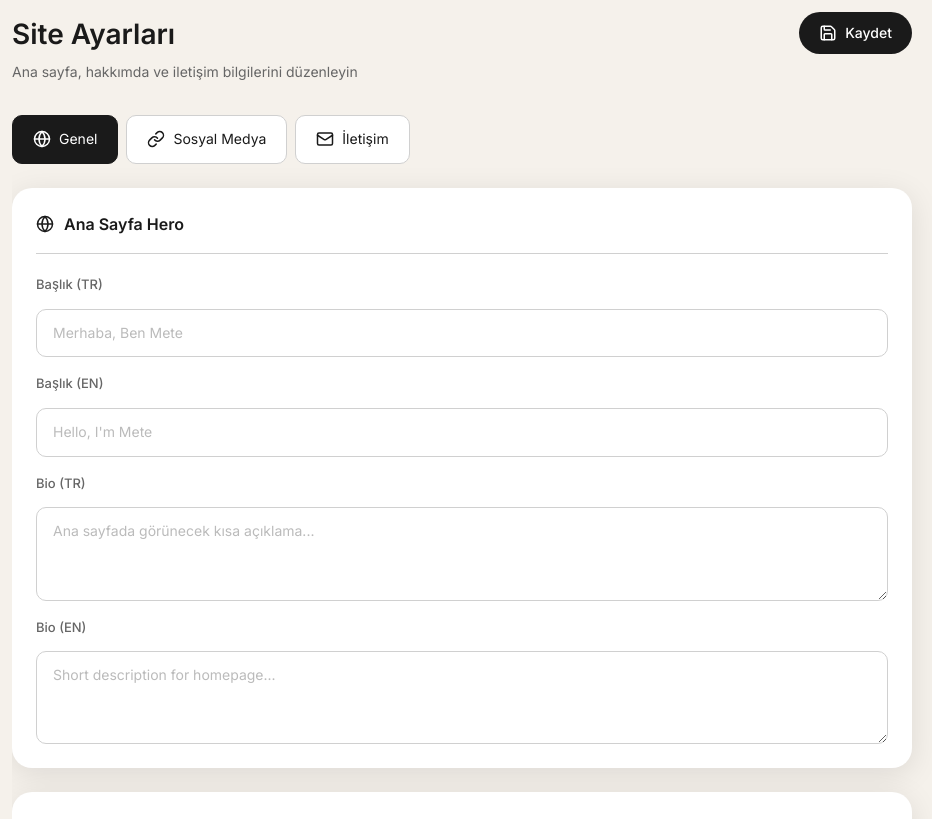
Test: SettingsEditor › handles tab switching
Click the button "Sosyal Medya" at (207, 139), box top-left (126, 115), bottom-right (287, 164)
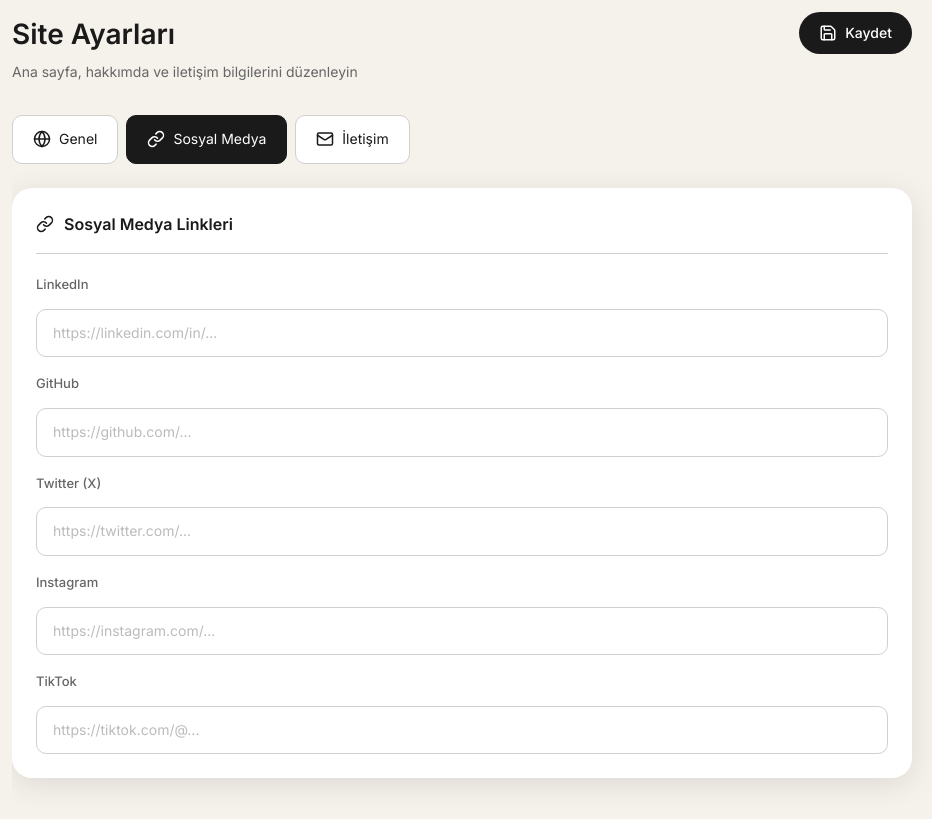
Now the heading "Sosyal Medya Linkleri" is shown, box top-left (36, 212), bottom-right (888, 254)
Now the field with placeholder "https://linkedin.com/in/..." is shown, box top-left (36, 309), bottom-right (888, 357)
Click the button "İletişim" at (352, 139), box top-left (295, 115), bottom-right (410, 164)
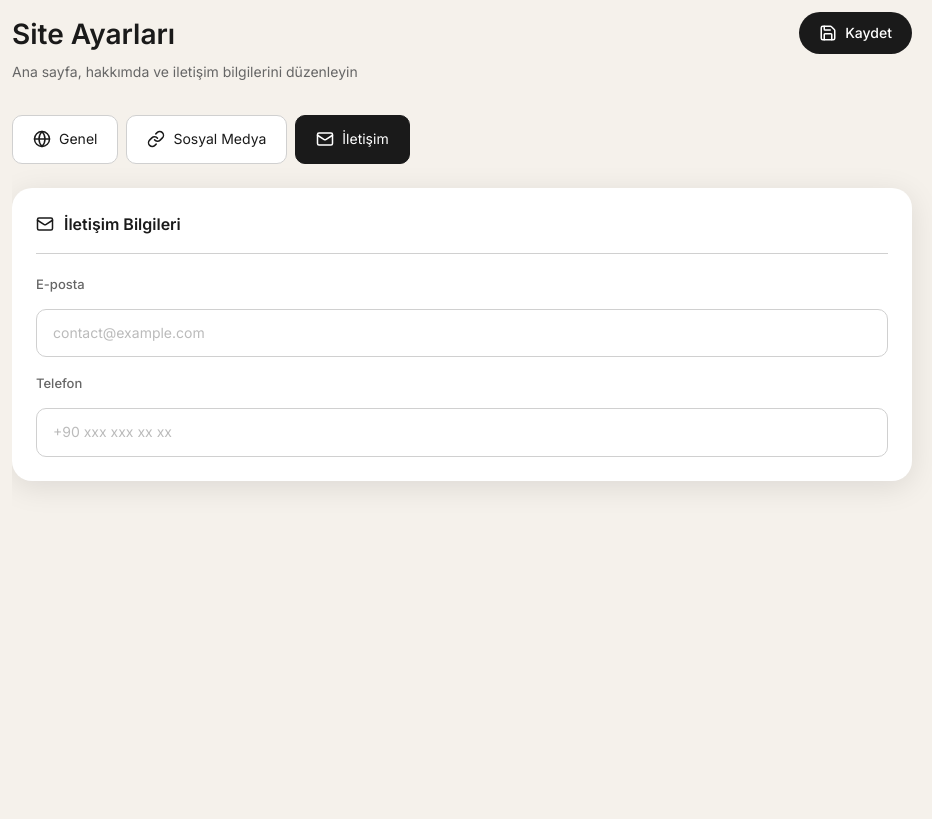
Now the heading "İletişim Bilgileri" is shown, box top-left (36, 212), bottom-right (888, 254)
